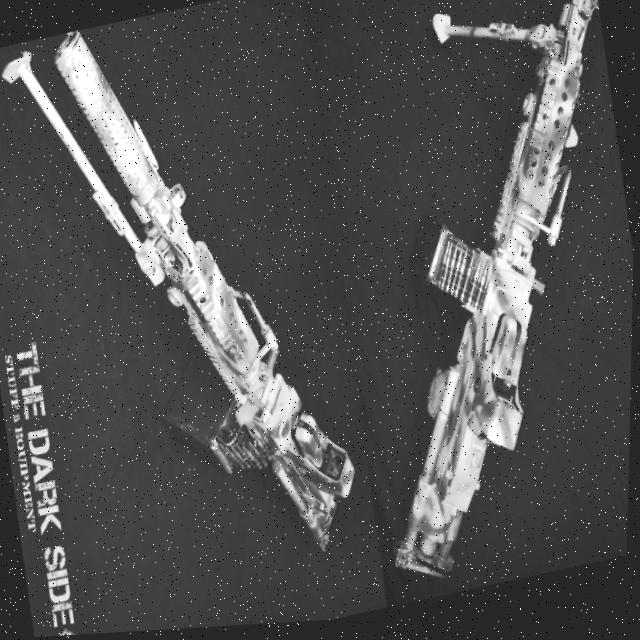firearm: (306, 0, 640, 596), (44, 0, 376, 598)
